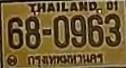0: (53, 15, 69, 47)
3: (104, 13, 120, 46)
6: (87, 14, 103, 46), (7, 16, 22, 48)
8: (25, 16, 40, 48)
9: (70, 14, 86, 47)
BKK: (27, 52, 106, 68)
